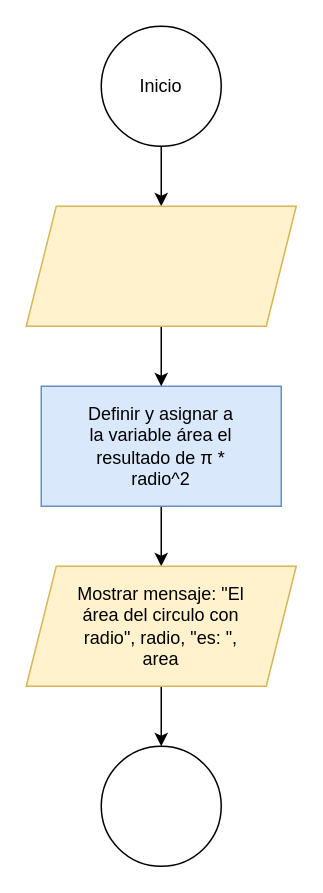
This 323x893 diagram has some shape labels left out. The centre of each missing label's shape, as x and y in pixels:
Fin: the point at 160,805
Mostrar mensaje: "Por favor, ingrese el radio del círculo: ": the point at 160,265
